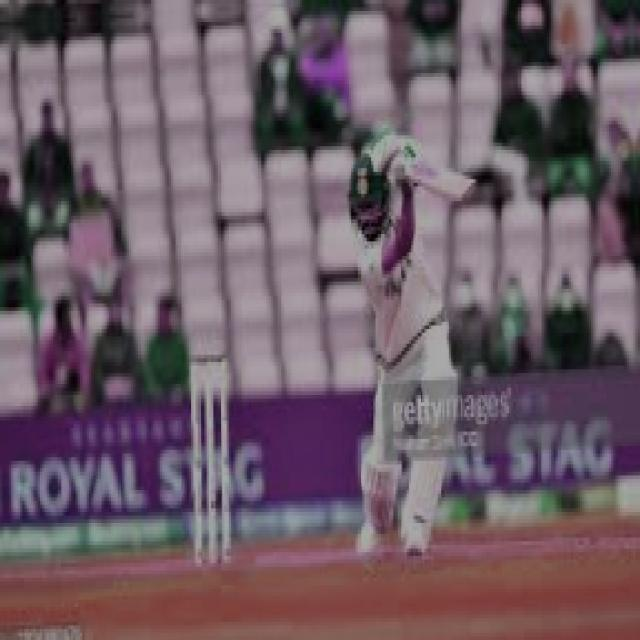toe: (449, 167, 488, 218)
